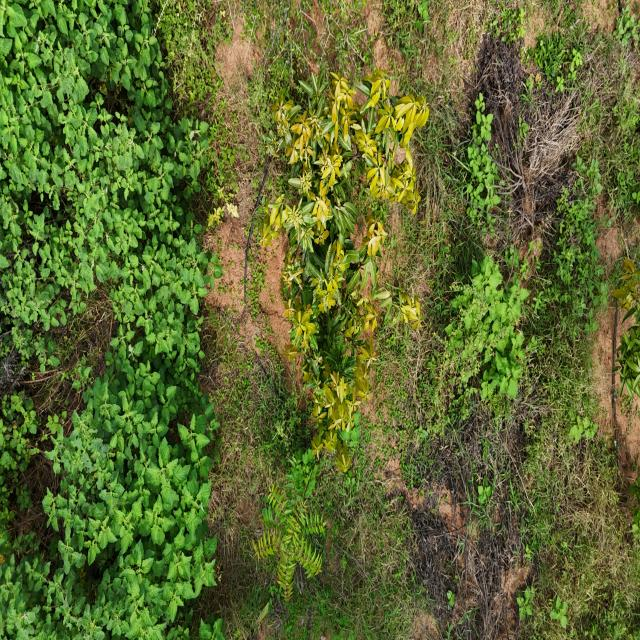mangoTree: (260, 57, 432, 481)
notMangoTree: (445, 250, 530, 404), (250, 484, 329, 603)
